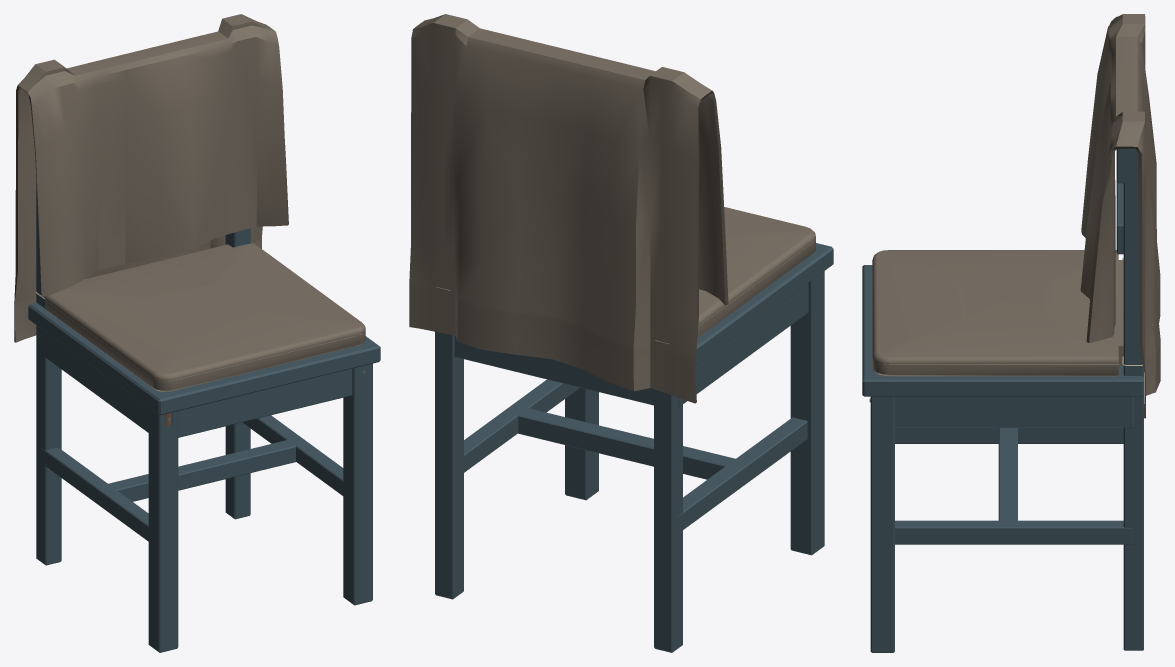
The model's file is kitchen-chair-blue-d9e9841f1f79.glb.
3 renders of one model, left to right at view 1: azimuth 30°, elevation 25°; view 2: azimuth 150°, elevation 25°; view 3: azimuth 270°, elevation 25°, orthographic. The views are drawn at different scales.
Parts seen in each view (by area): view 1: cover-cloth, enamel-blue, fabric, paper; view 2: cover-cloth, enamel-blue, fabric; view 3: cover-cloth, enamel-blue, fabric, paper.
Boxes of the visible parts, x1=… form: cover-cloth: x1=15, y1=14, x2=365, y2=390; enamel-blue: x1=28, y1=183, x2=380, y2=652; fabric: x1=14, y1=85, x2=288, y2=342; paper: x1=35, y1=292, x2=361, y2=391; cover-cloth: x1=409, y1=14, x2=815, y2=403; enamel-blue: x1=435, y1=243, x2=833, y2=652; fabric: x1=695, y1=90, x2=728, y2=403; cover-cloth: x1=872, y1=14, x2=1160, y2=417; enamel-blue: x1=862, y1=148, x2=1143, y2=652; fabric: x1=1086, y1=146, x2=1145, y2=418; paper: x1=873, y1=257, x2=1142, y2=376.
Bounding box in the file's own units: 0.4472 × 0.85 × 0.4342.
